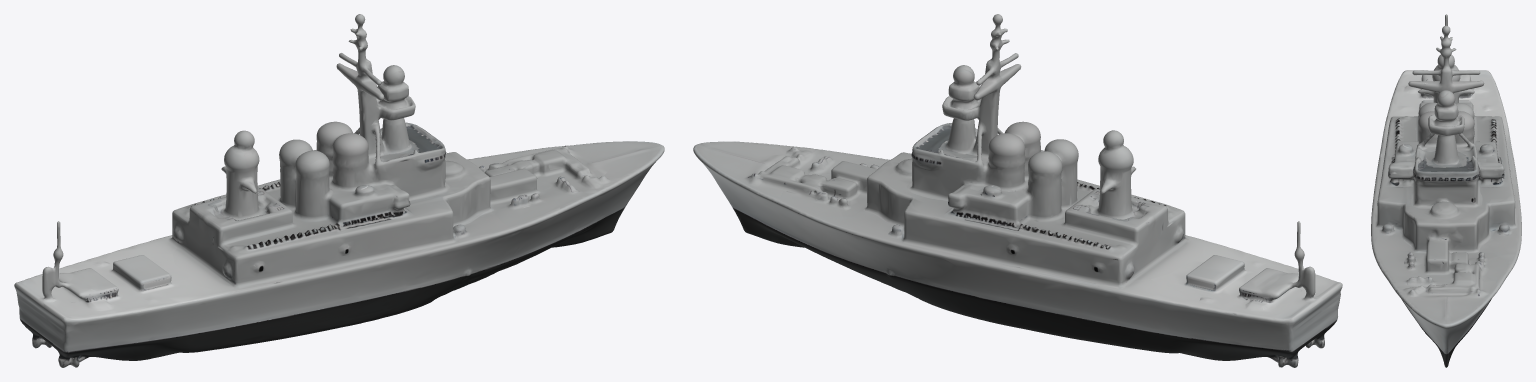
File: aircraft.glb
3 renders of one model, left to right at view 1: azimuth 30°, elevation 25°; view 2: azimuth 150°, elevation 25°; view 3: azimuth 270°, elevation 25°, orthographic. The views are drawn at different scales.
Visible parts, largest first — view 1: mesh_uvwarp.002; view 2: mesh_uvwarp.002; view 3: mesh_uvwarp.002.
Boxes of the visible parts, box(x1,y1,x2,y2) form: mesh_uvwarp.002: box(14, 14, 664, 367); mesh_uvwarp.002: box(693, 14, 1342, 367); mesh_uvwarp.002: box(1371, 14, 1521, 367).
Bounding box in the file's own units: 1.99 × 0.858 × 0.4907.
1 material, 1 textured.
